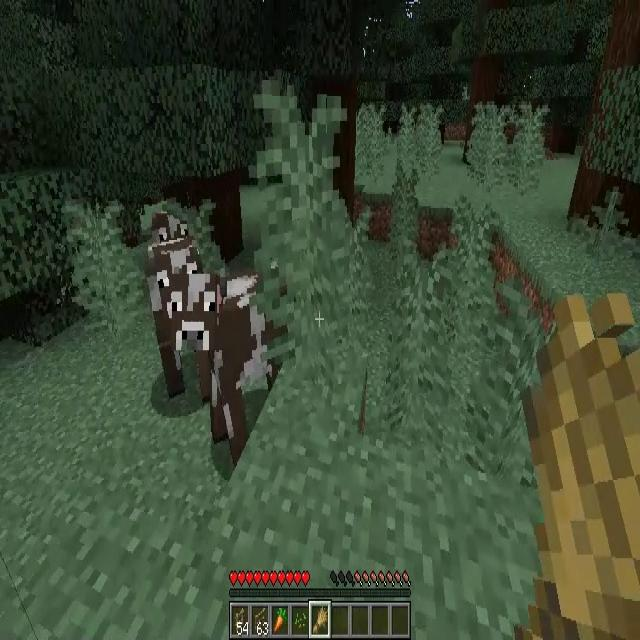cow: (180, 275, 296, 467), (149, 250, 205, 388), (156, 213, 190, 249)
